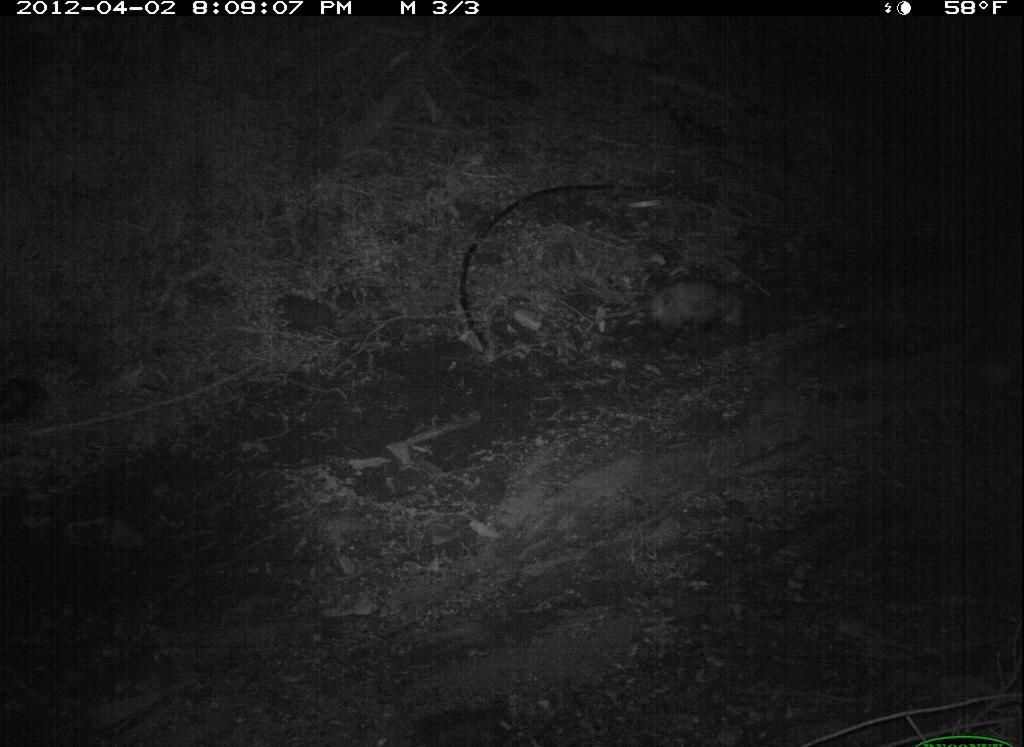opossum: (596, 272, 772, 351)
